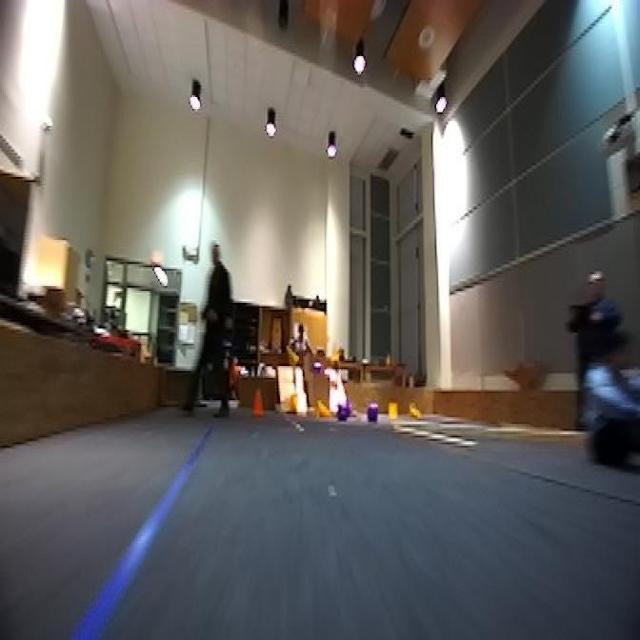frc_cone: (314, 400, 332, 424), (408, 404, 424, 426), (288, 347, 303, 368), (329, 342, 341, 368), (387, 400, 398, 427)
frc_cube: (366, 402, 381, 427), (310, 356, 324, 376), (336, 402, 348, 422)
